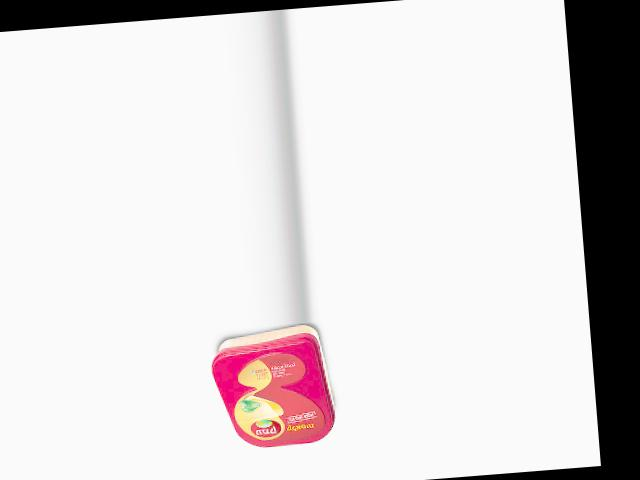cheese: (208, 322, 337, 451)
